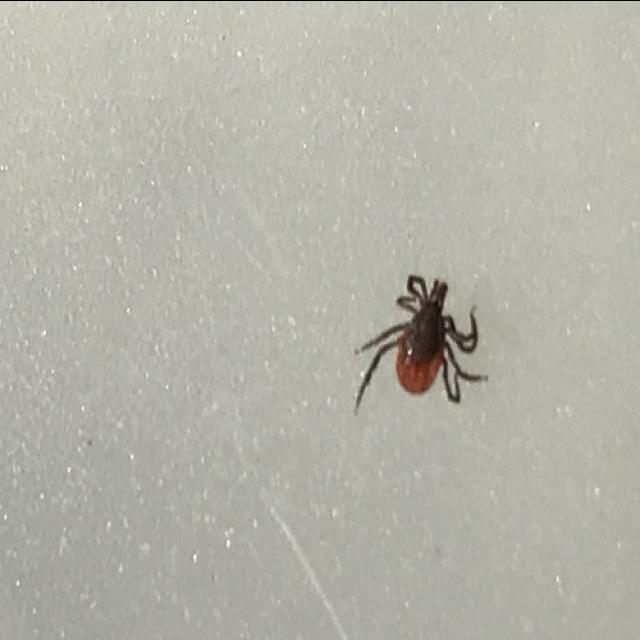Ixodes Ricinus-F-Fed: (355, 273, 489, 415)
